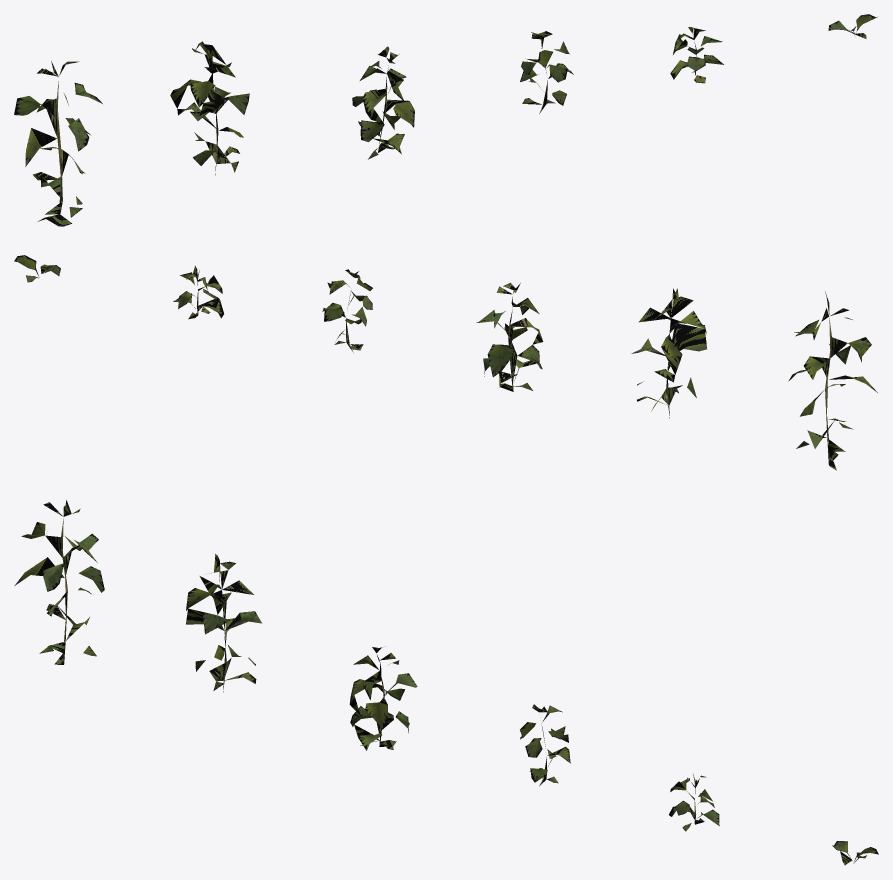
Rendered from nettle_plant_lo.glb.
3 views of the same model, one above another, from view 1: azimuth 30°, elevation 25°; view 2: azimuth 150°, elevation 25°; view 3: azimuth 330°, elevation 25° (orthographic).
Parts seen in each view (by area): view 1: nettle_plant_tall_a_LOD0, nettle_plant_tall_b_LOD0, nettle_plant_medium_a_LOD0, nettle_plant_medium_b_LOD0, nettle_plant_small_a_LOD0; view 2: nettle_plant_tall_b_LOD0, nettle_plant_tall_a_LOD0, nettle_plant_medium_a_LOD0, nettle_plant_medium_b_LOD0, nettle_plant_small_a_LOD0, nettle_plant_small_b_LOD0; view 3: nettle_plant_tall_a_LOD0, nettle_plant_tall_b_LOD0, nettle_plant_medium_a_LOD0, nettle_plant_medium_b_LOD0, nettle_plant_small_a_LOD0.
Part boxes in pixels (x1,y1,x2,y2): nettle_plant_tall_a_LOD0: (14,61,102,226); nettle_plant_tall_b_LOD0: (170,41,249,175); nettle_plant_medium_a_LOD0: (352,46,414,159); nettle_plant_medium_b_LOD0: (520,31,573,113); nettle_plant_small_a_LOD0: (670,27,723,83); nettle_plant_tall_b_LOD0: (631,288,706,418); nettle_plant_tall_a_LOD0: (788,291,877,470); nettle_plant_medium_a_LOD0: (476,282,543,391); nettle_plant_medium_b_LOD0: (322,269,372,352); nettle_plant_small_a_LOD0: (173,265,223,319); nettle_plant_small_b_LOD0: (14,255,60,282); nettle_plant_tall_a_LOD0: (14,499,104,664); nettle_plant_tall_b_LOD0: (186,554,262,692); nettle_plant_medium_a_LOD0: (349,646,417,750); nettle_plant_medium_b_LOD0: (520,704,570,786); nettle_plant_small_a_LOD0: (669,773,719,831).
Size of the model in its own units: 1.08 by 0.2087 by 0.0947.
1 material, 1 textured.
